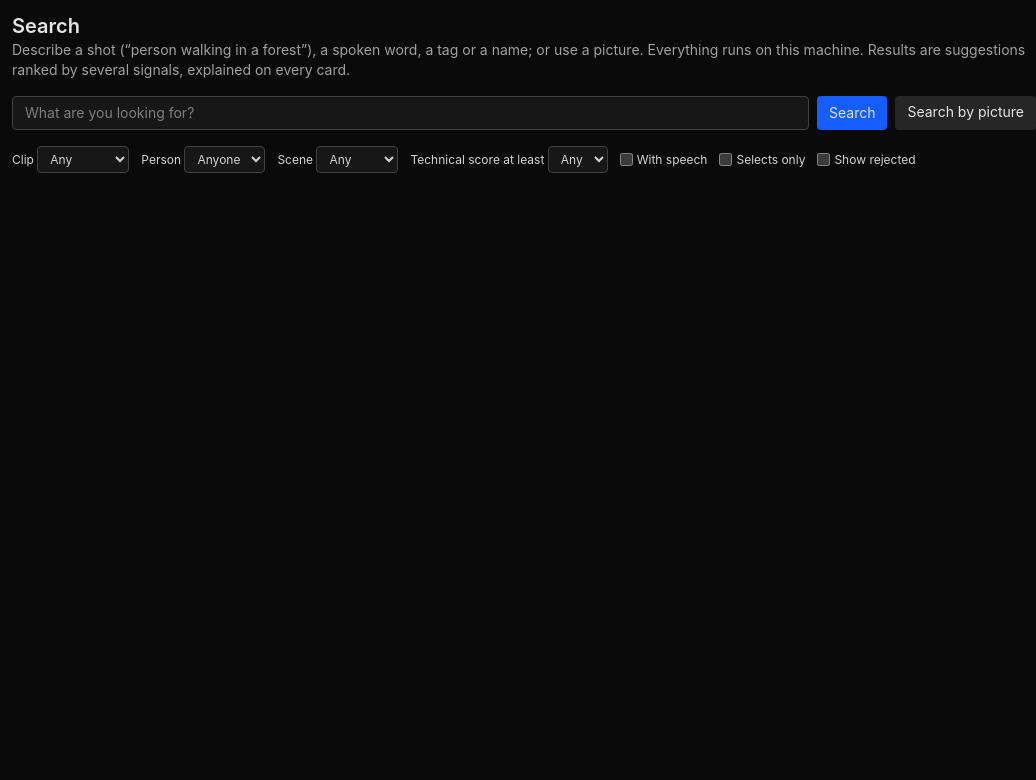
searches, shows why each shot is there, and links to the moment
Type "forest" into the search field named "Search shots".
click(410, 113); type("forest")  # box [12,96,809,130]
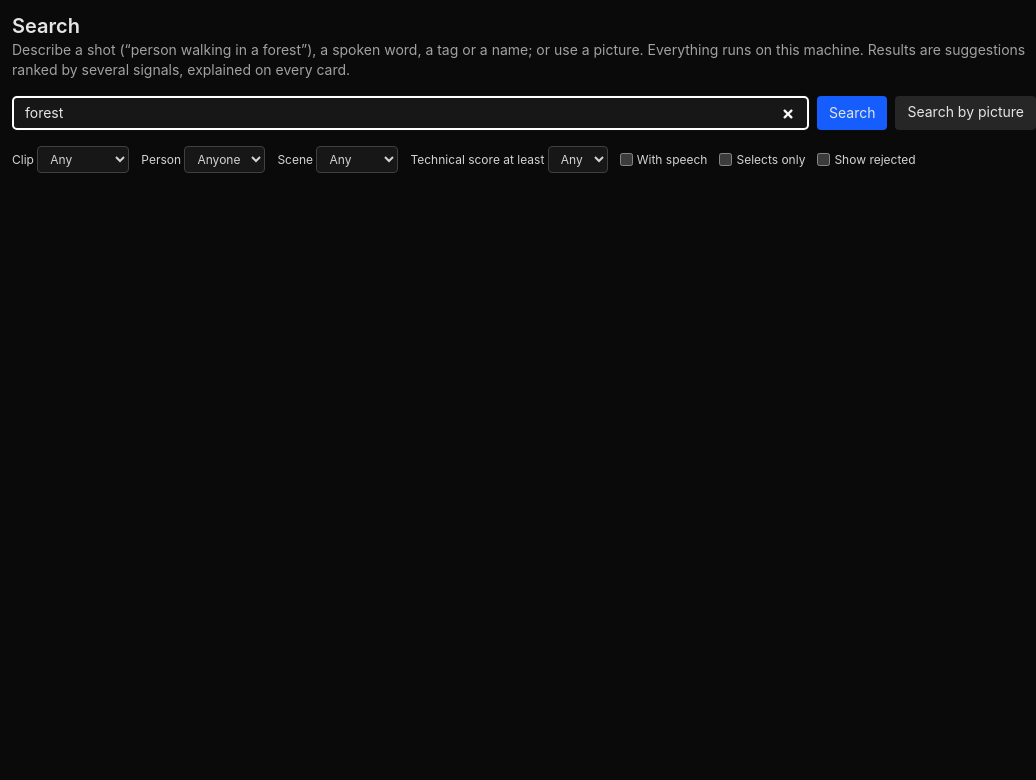
Click the button "Search".
click(852, 113)  # box [817,96,888,130]
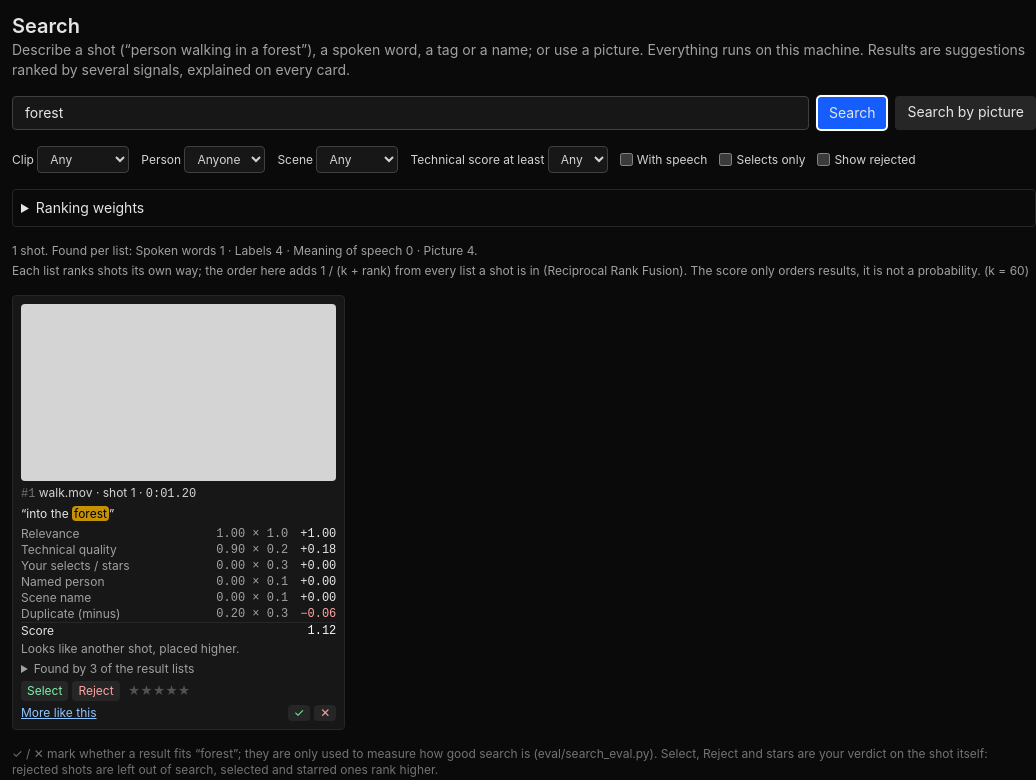
Expected: the message shows "Found per list: Spoken words 1 · Labels 4 · Meaning of speech 0 · Picture 4", [12,243,478,258]
Expected: the text "Reciprocal Rank Fusion" shows "k = 60", [12,263,1035,279]
